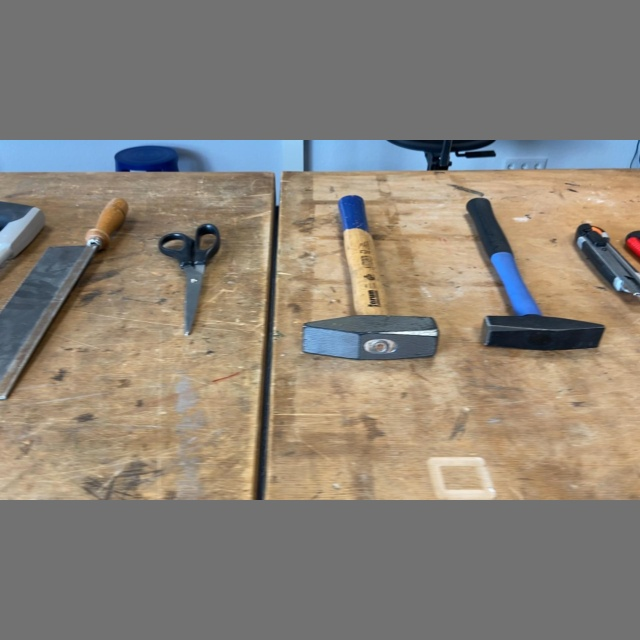scissor: (155, 220, 223, 343)
